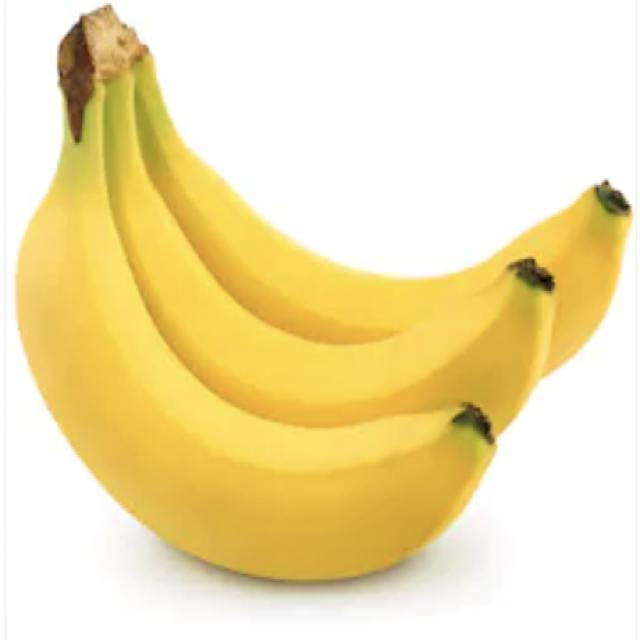Banana: (14, 2, 632, 583)
